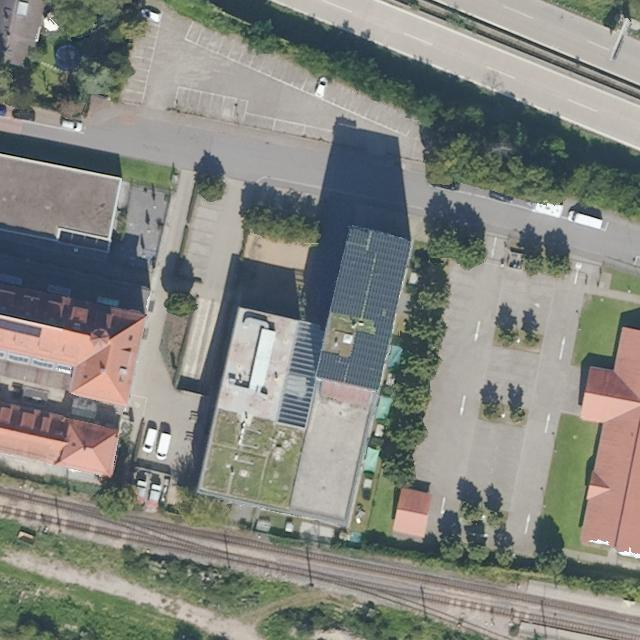PV: (313, 224, 415, 395)
